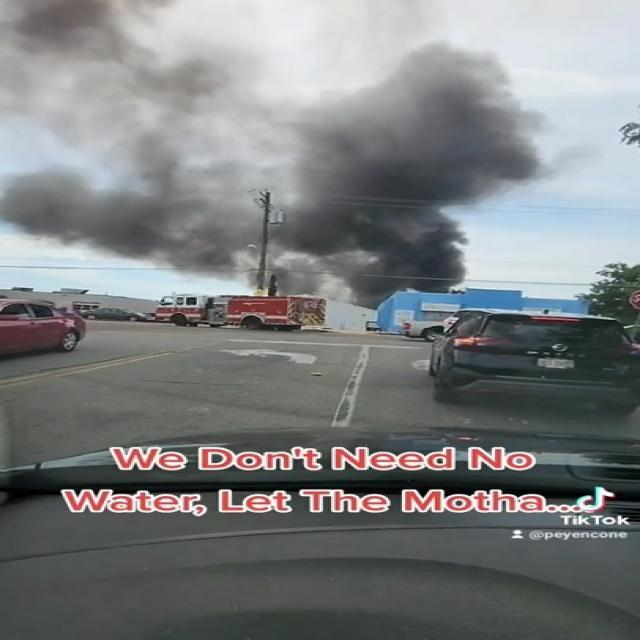Smoke: (262, 49, 536, 298)
